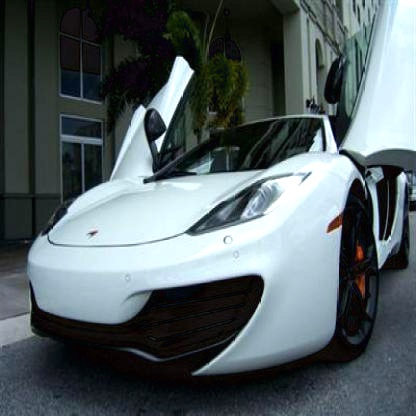Vehicle: (25, 57, 414, 383)
